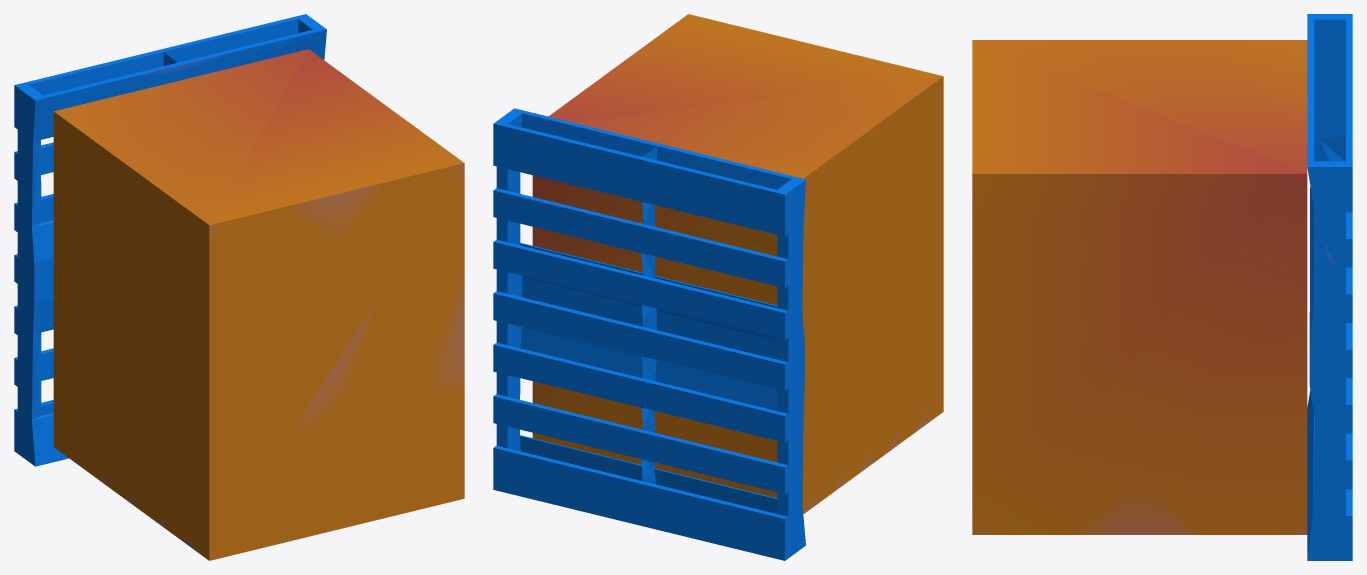
Rendered from crate_flipped_.dae.
3 renders of one model, left to right at view 1: azimuth 30°, elevation 25°; view 2: azimuth 150°, elevation 25°; view 3: azimuth 270°, elevation 25°, orthographic. The views are drawn at different scales.
Visible parts, largest first — view 1: node; view 2: node; view 3: node.
Part boxes in pixels (box(x1,y1,x2,y2)): node: box(14, 14, 464, 560); node: box(493, 14, 943, 560); node: box(972, 14, 1352, 560).
Bounding box in the file's own units: 1.02 × 1.22 × 1.07.
1 material, 1 textured.
